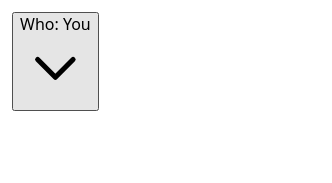
Test: DropChip › closes on Escape without changing the value
Click the button "Who: You" at (55, 61), box [12,12,99,110]
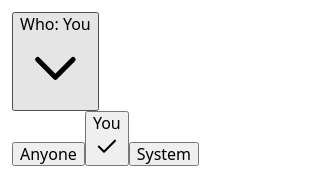
Press Escape in the list, box [12,110,199,166]
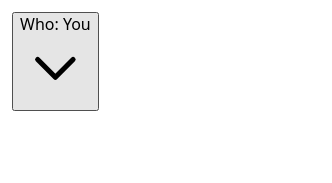
Expected: the list is gone
